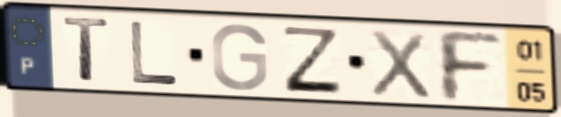F: (431, 27, 507, 105)
G: (209, 21, 271, 94)
L: (127, 18, 181, 88)
T: (60, 14, 114, 86)
X: (367, 26, 434, 101)
Z: (280, 24, 345, 96)
